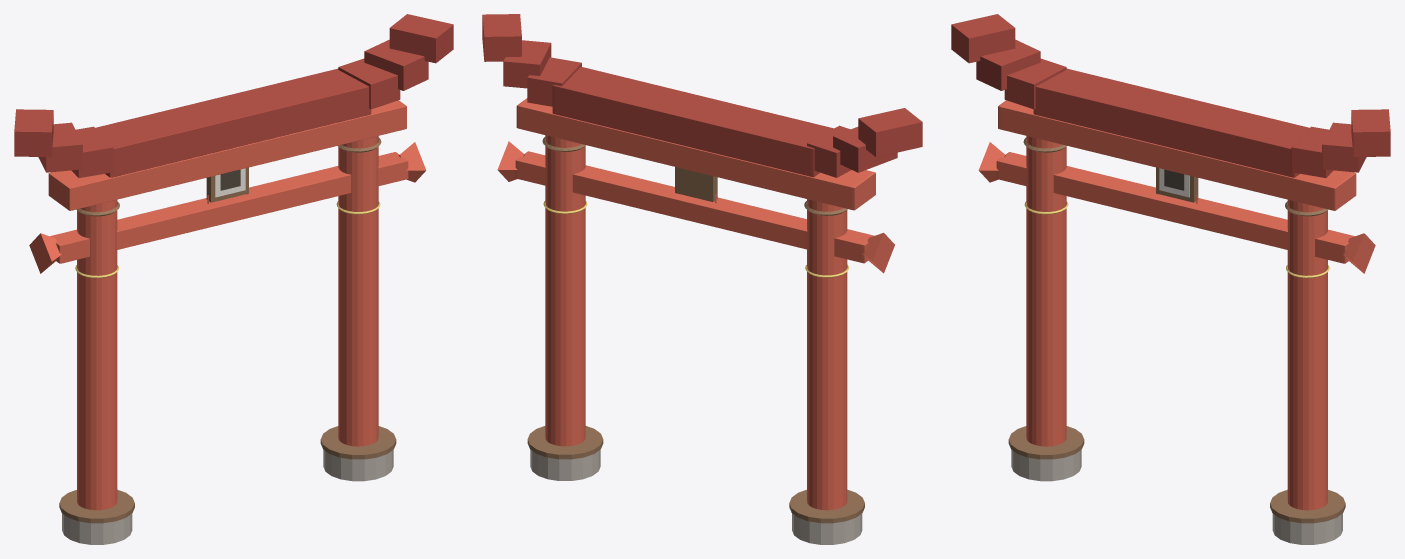
Rendered from torii_v2.glb.
The picture shows the model from 3 angles, left to right: view 1: azimuth 30°, elevation 25°; view 2: azimuth 150°, elevation 25°; view 3: azimuth 330°, elevation 25°; orthographic projection.
Visible parts, largest first — view 1: torii_v2; view 2: torii_v2; view 3: torii_v2.
Part boxes in pixels (bbox=[...]): torii_v2: bbox=[14, 14, 453, 544]; torii_v2: bbox=[482, 14, 922, 544]; torii_v2: bbox=[951, 14, 1390, 544].
Bounding box in the file's own units: 4.04 × 3.73 × 0.6.
